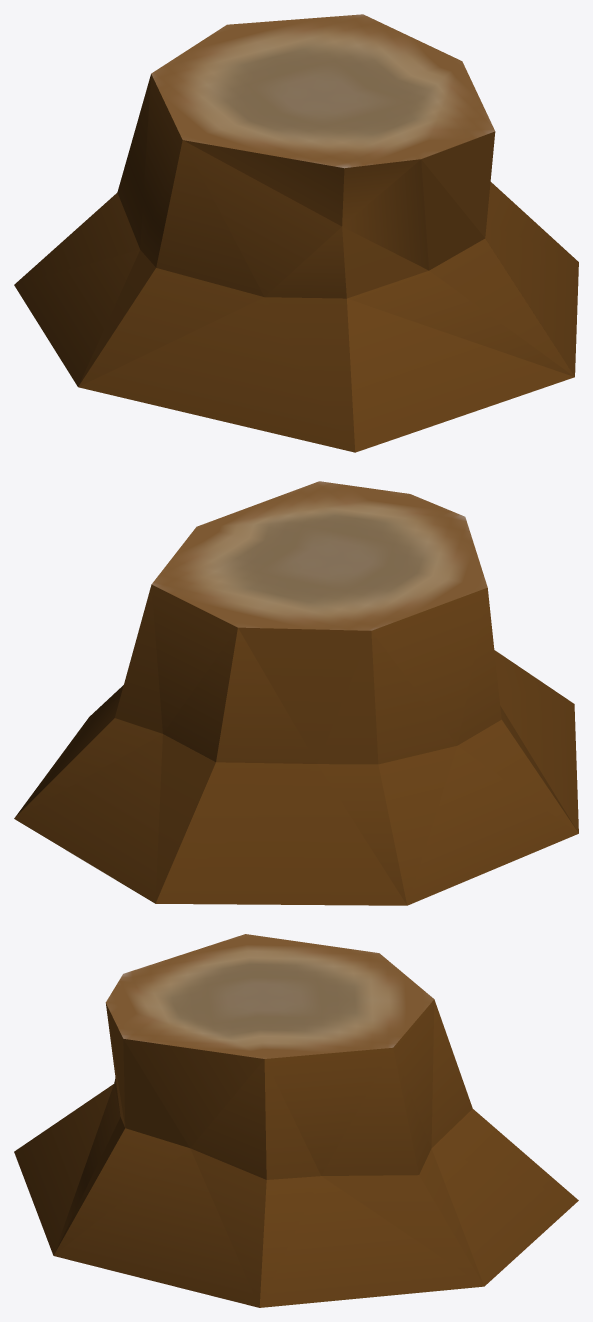
Rendered from co_CutTree03.fbx.
3 views of the same model, one above another, from view 1: azimuth 30°, elevation 25°; view 2: azimuth 150°, elevation 25°; view 3: azimuth 270°, elevation 25° (orthographic). The views are drawn at different scales.
Visible parts, largest first — view 1: CutTree03; view 2: CutTree03; view 3: CutTree03.
Part boxes in pixels (left/top/right/bottom): CutTree03: left=14, top=14, right=578, bottom=452; CutTree03: left=14, top=481, right=578, bottom=905; CutTree03: left=14, top=934, right=578, bottom=1307.
Bounding box in the file's own units: 1189 × 511 × 1309.
